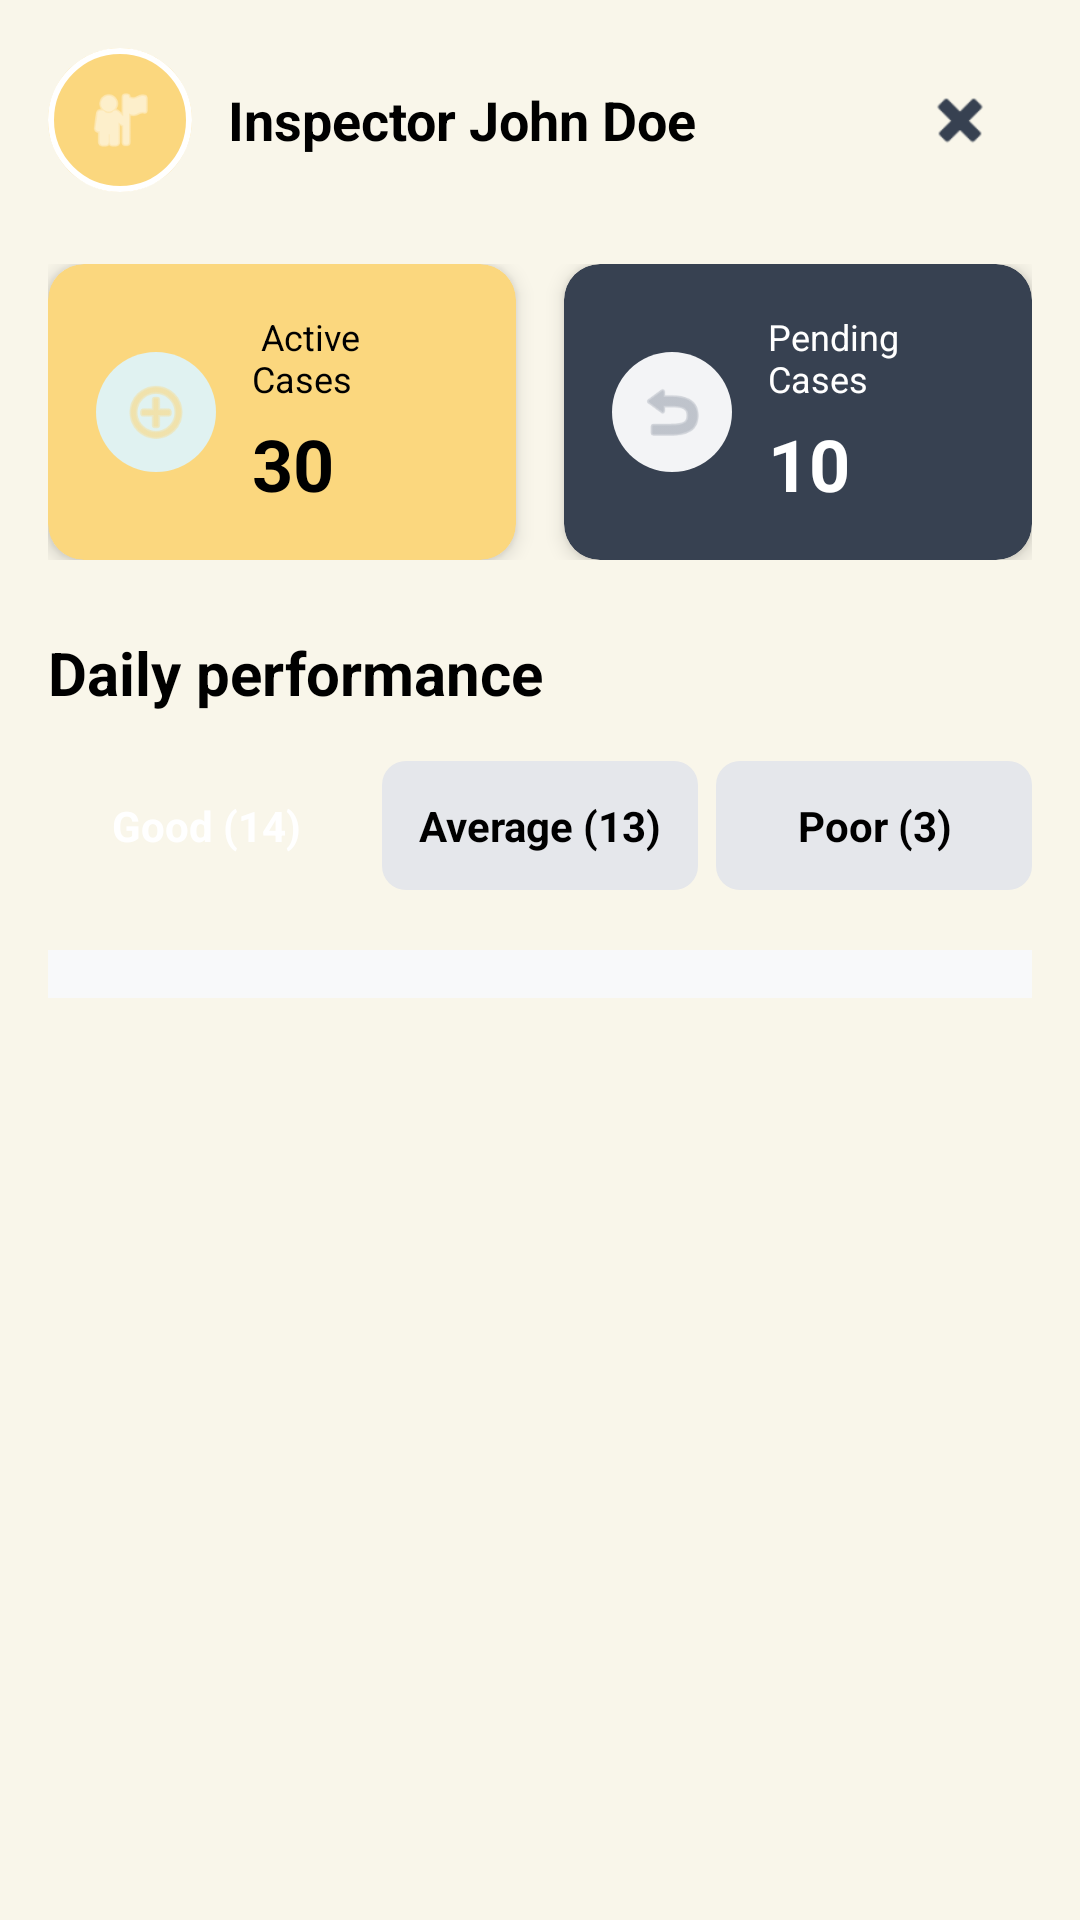

Where to tap for icons on this 1080*1920 app screen, as point (x, y):
add: point (156, 412)
delete: point (960, 120)
revert: point (672, 413)
